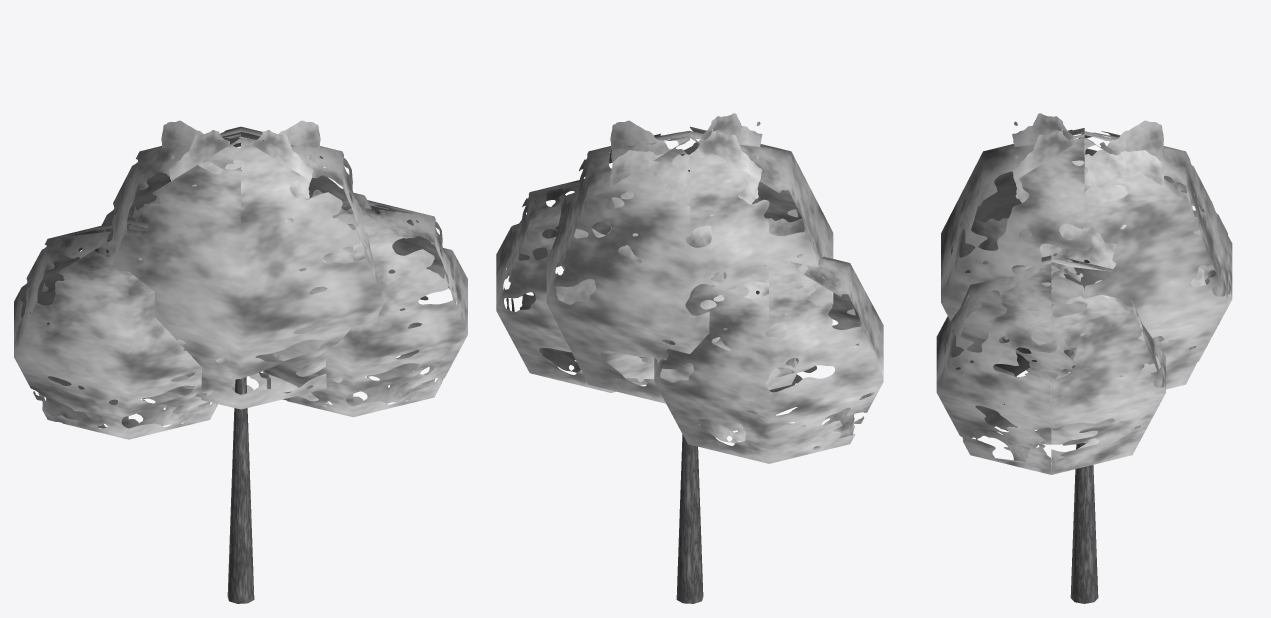
File: tree_beech.glb
3 renders of one model, left to right at view 1: azimuth 30°, elevation 25°; view 2: azimuth 150°, elevation 25°; view 3: azimuth 270°, elevation 25°, orthographic.
Visible parts, largest first — view 1: tree_beech; view 2: tree_beech; view 3: tree_beech.
Boxes of the visible parts, bbox=[...] form: tree_beech: bbox=[14, 120, 467, 603]; tree_beech: bbox=[496, 113, 883, 603]; tree_beech: bbox=[936, 113, 1232, 603].
Bounding box in the file's own units: 12.32 × 14 × 8.73.
Materials: 2 (2 with a texture image).
